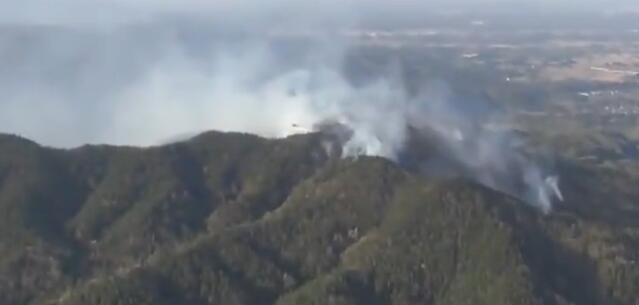yanwu: (1, 0, 403, 161), (341, 77, 563, 215)
